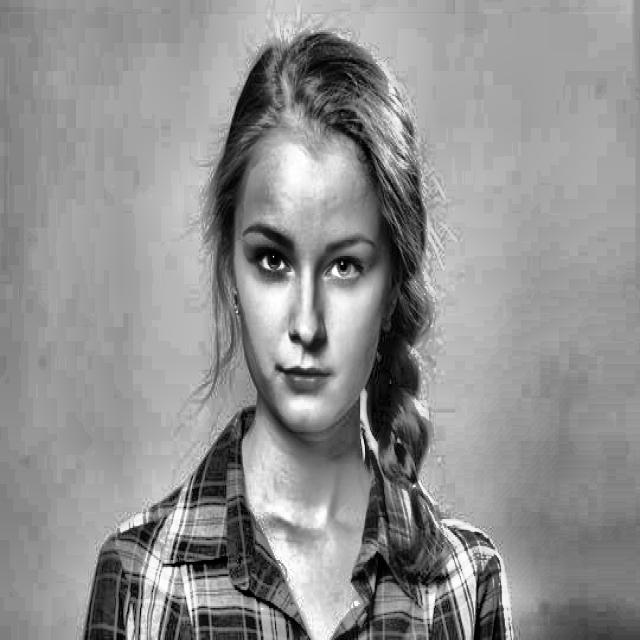neutral: (216, 25, 420, 430)
